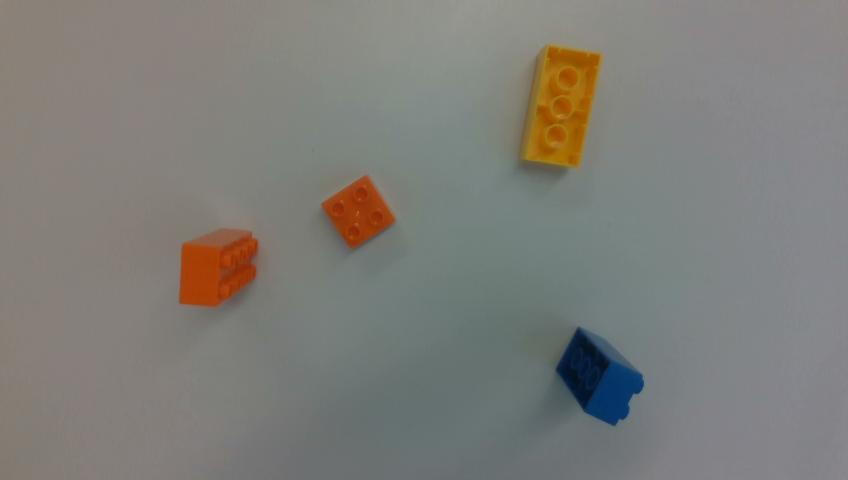2x2_orange: (322, 175, 394, 248)
4x2_blue: (556, 327, 643, 425)
4x2_orange: (180, 229, 257, 306)
4x2_yellow: (521, 45, 600, 165)
